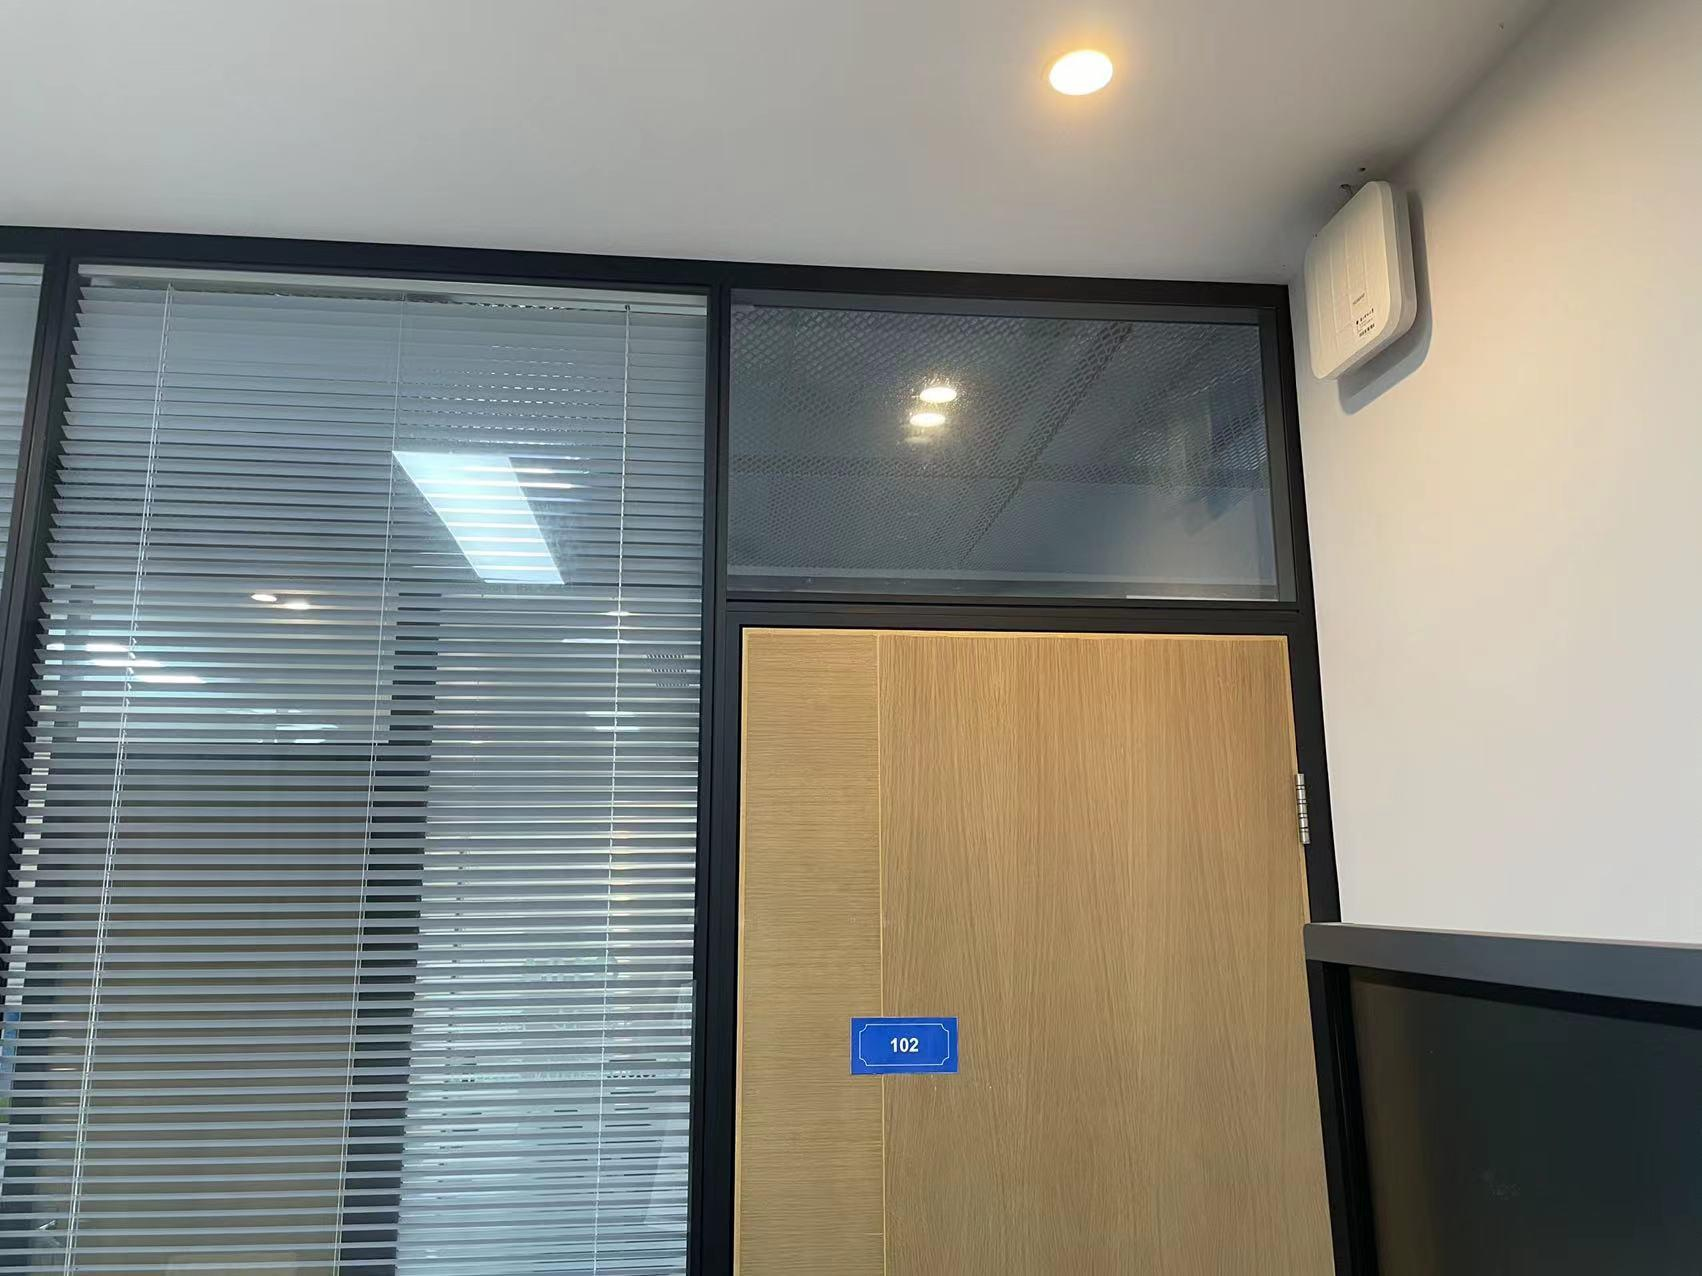Card: (851, 1003, 964, 1083)
